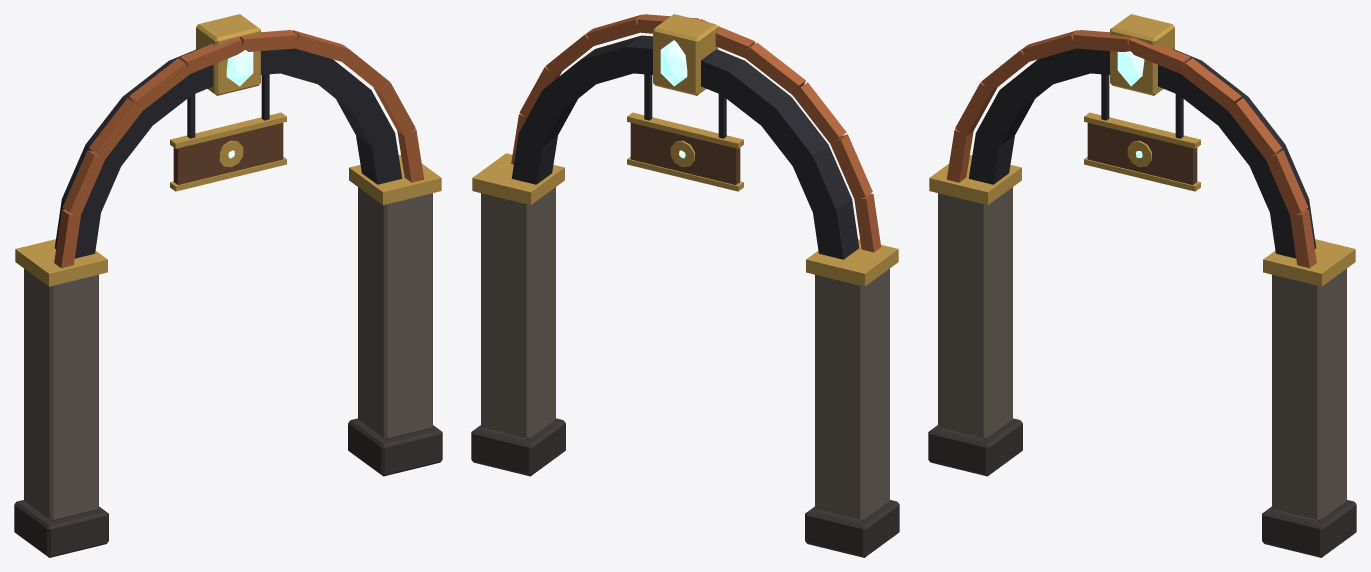
The model's file is Arco.fbx.
3 renders of one model, left to right at view 1: azimuth 30°, elevation 25°; view 2: azimuth 150°, elevation 25°; view 3: azimuth 330°, elevation 25°, orthographic.
Parts seen in each view (by area): view 1: Corpo, PlacaArco, CristalPulso; view 2: Corpo, PlacaArco, CristalPulso; view 3: Corpo, PlacaArco, CristalPulso.
Boxes of the visible parts, x1,y1,x2,y2 form: Corpo: [14, 14, 442, 557]; PlacaArco: [170, 74, 286, 191]; CristalPulso: [226, 50, 253, 86]; Corpo: [471, 14, 899, 557]; PlacaArco: [627, 74, 743, 191]; CristalPulso: [660, 40, 687, 86]; Corpo: [928, 14, 1356, 557]; PlacaArco: [1084, 74, 1200, 191]; CristalPulso: [1117, 51, 1144, 86].
Bounding box in the file's own units: 6.4 × 7.3 × 1.
